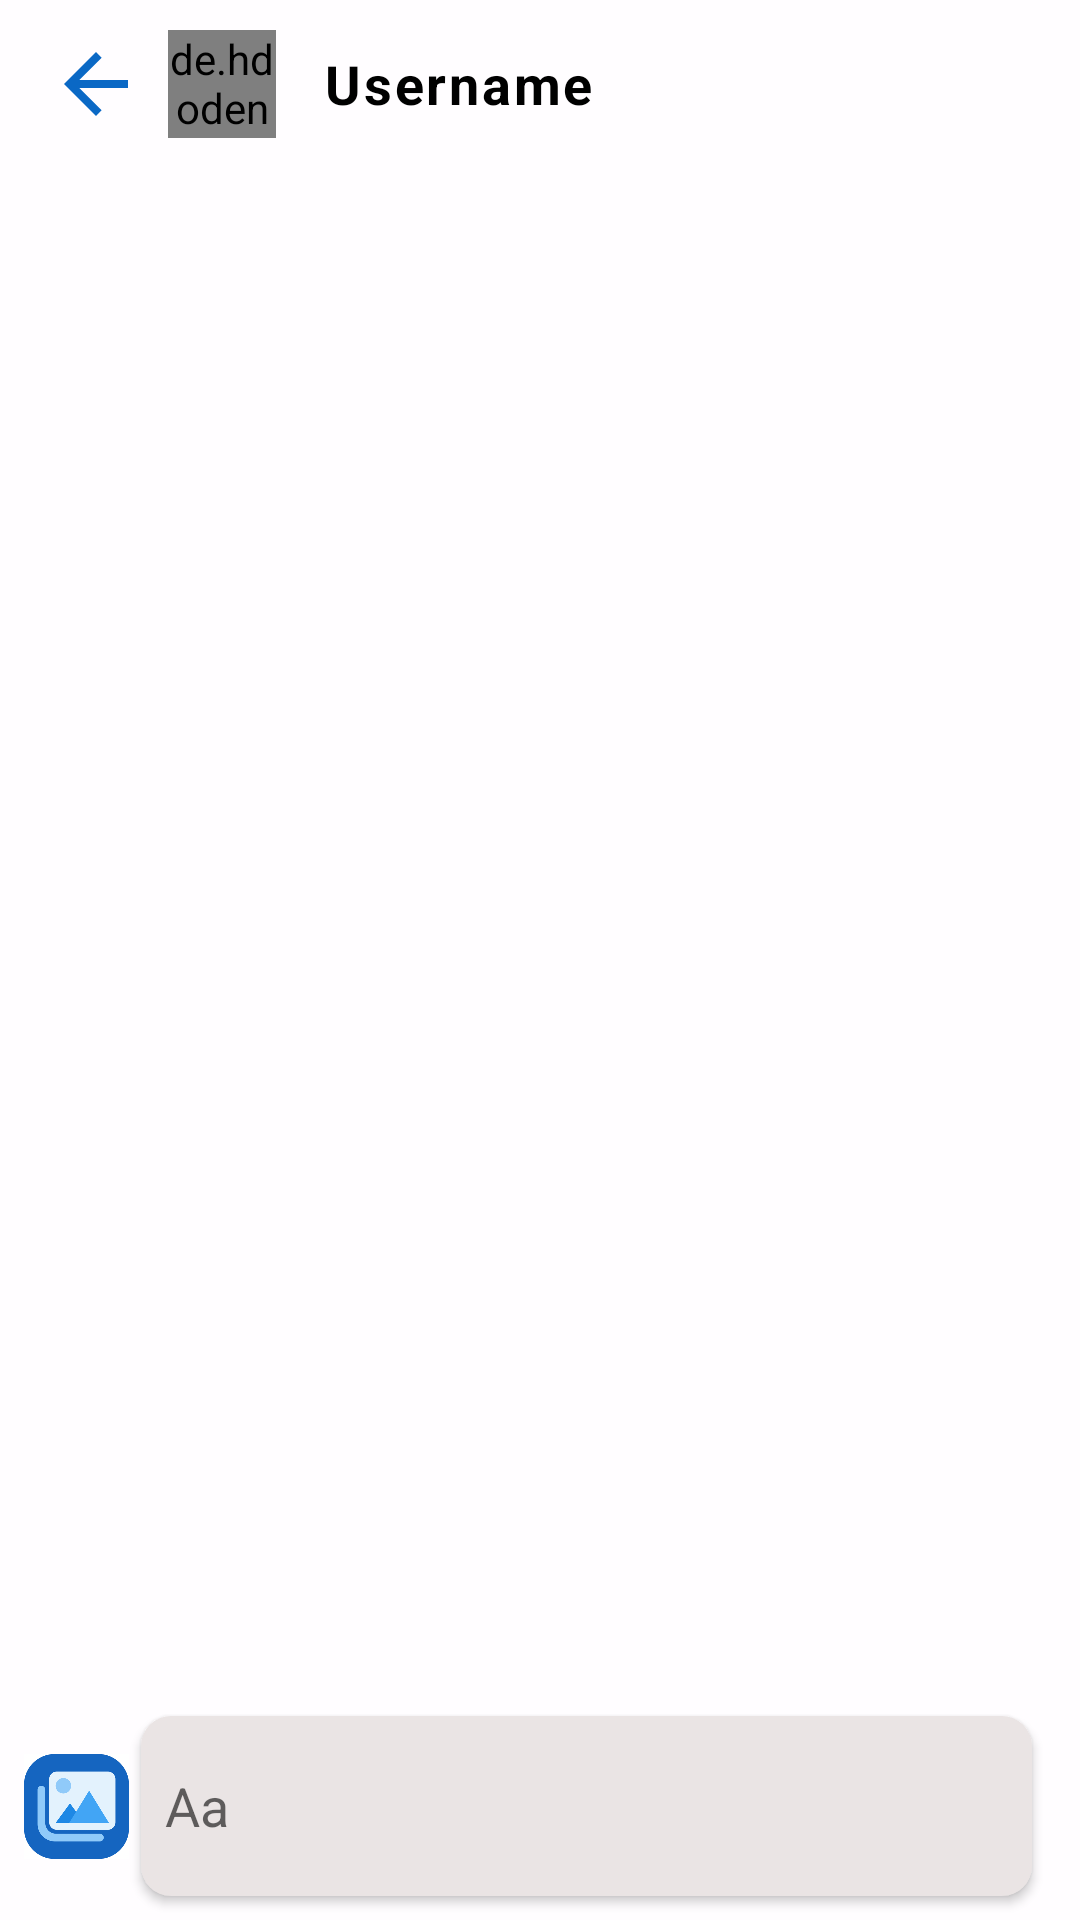

Screen size 1080 x 1920. Icon name, then its box in pixels as (x1, y1, x2, y2):
arrow back: (64, 52, 128, 116)
gallery: (24, 1754, 129, 1859)
